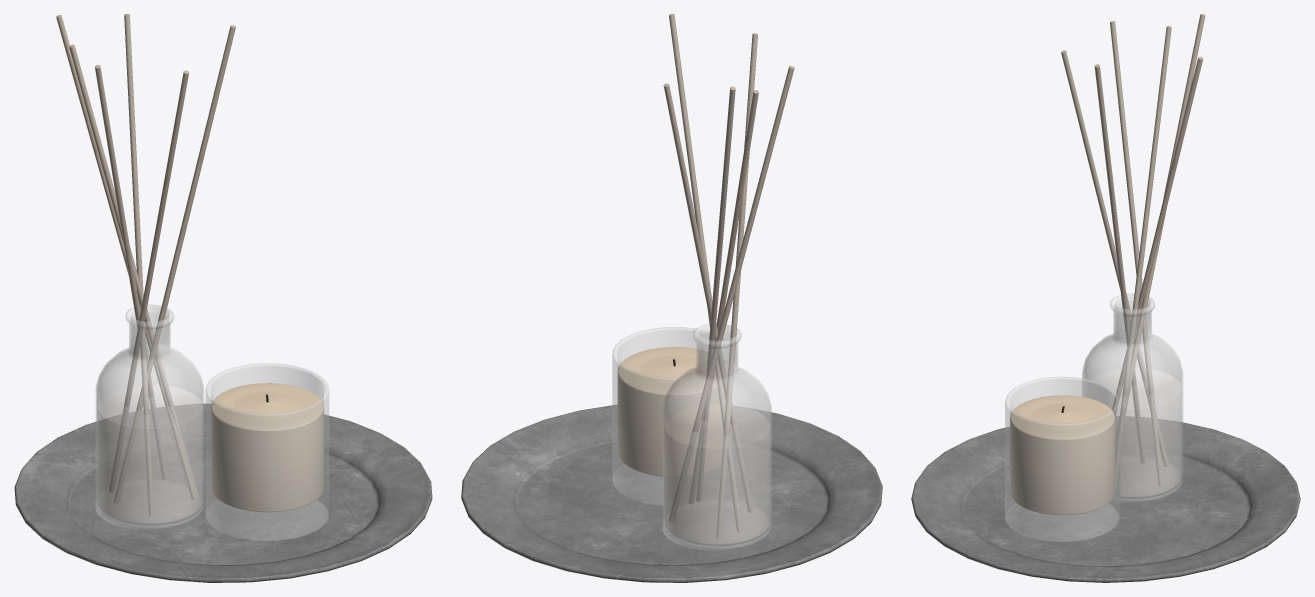
The model's file is candle-and-essence-web.glb.
The picture shows the model from 3 angles, left to right: view 1: azimuth 30°, elevation 25°; view 2: azimuth 150°, elevation 25°; view 3: azimuth 270°, elevation 25°; orthographic projection. The views are drawn at different scales.
Parts seen in each view (by area): view 1: metal tray, candle, jar with essentials, essence; view 2: metal tray, jar with essentials, candle, essence; view 3: metal tray, candle, jar with essentials, essence.
Part boxes in pixels (box(x1,y1,x2,y2)): metal tray: box(14, 403, 432, 582); candle: box(206, 363, 328, 540); jar with essentials: box(96, 304, 203, 529); essence: box(56, 14, 235, 516); metal tray: box(461, 404, 882, 582); jar with essentials: box(663, 324, 771, 550); candle: box(612, 327, 730, 505); essence: box(663, 14, 794, 538); metal tray: box(911, 416, 1300, 582); candle: box(1005, 377, 1119, 541); jar with essentials: box(1082, 293, 1182, 502); essence: box(1061, 14, 1205, 490).
Bounding box in the file's own units: 0.147 × 0.1873 × 0.147.
Materials: 6 (2 with a texture image).
